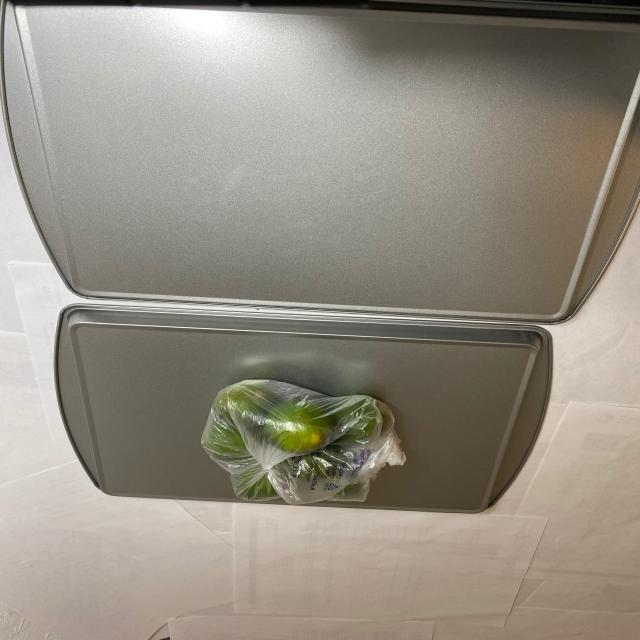lemon: (209, 382, 399, 502)
